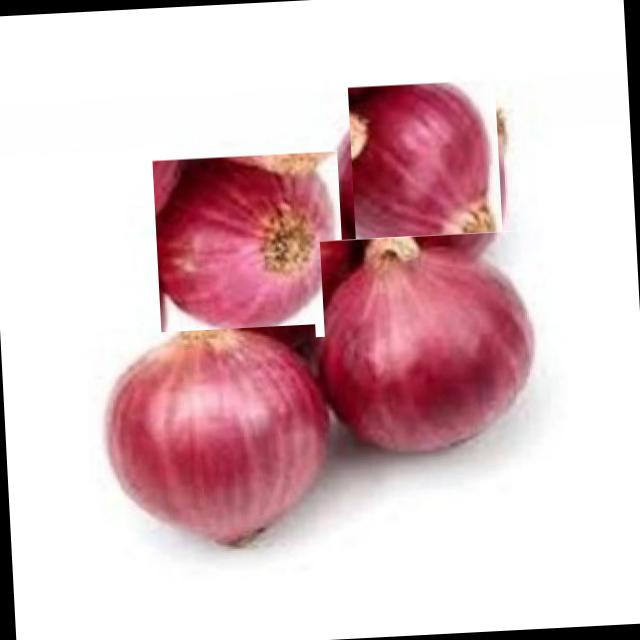Onion: (319, 229, 552, 462), (110, 324, 327, 552), (152, 151, 346, 345), (342, 85, 509, 253)
